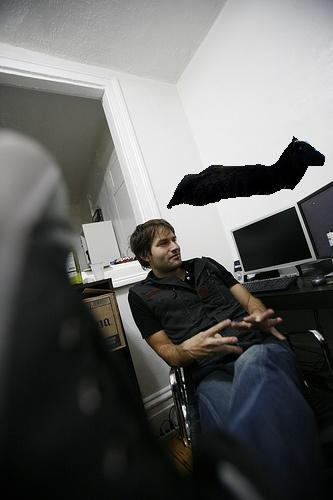tampered: (168, 137, 325, 209)
